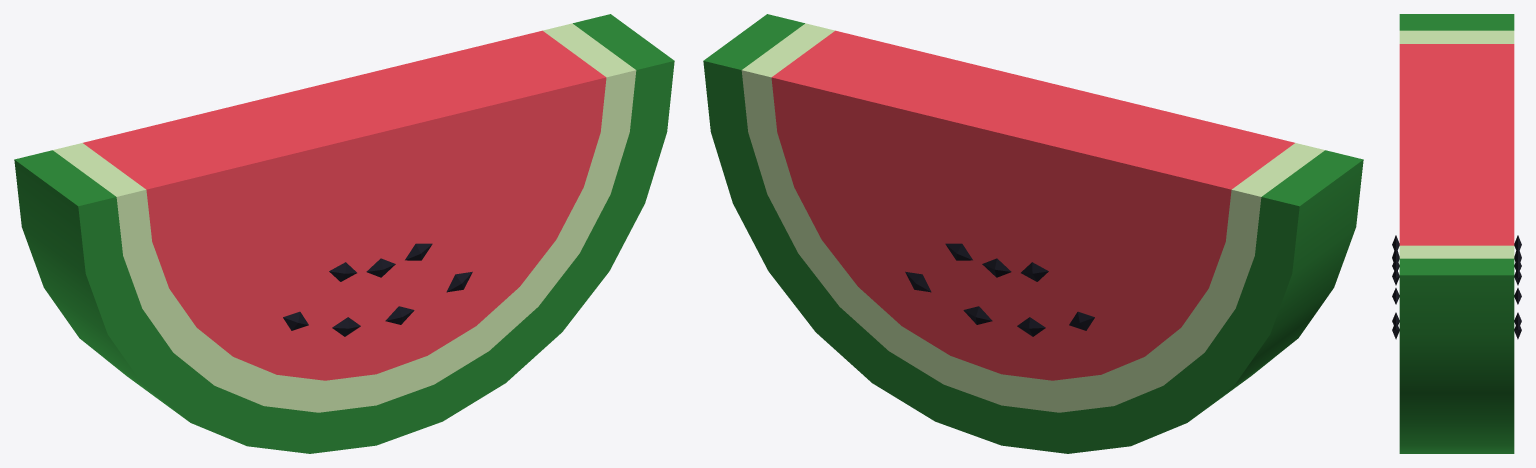
File: Watermelon.fbx
The picture shows the model from 3 angles, left to right: view 1: azimuth 30°, elevation 25°; view 2: azimuth 150°, elevation 25°; view 3: azimuth 270°, elevation 25°; orthographic projection. The views are drawn at different scales.
Visible parts, largest first — view 1: Watermelon; view 2: Watermelon; view 3: Watermelon.
Part boxes in pixels (<box>): Watermelon: <box>14,14,674,453</box>; Watermelon: <box>703,14,1363,453</box>; Watermelon: <box>1392,14,1521,453</box>.
Bounding box in the file's own units: 0.14 × 0.07 × 0.0294.
